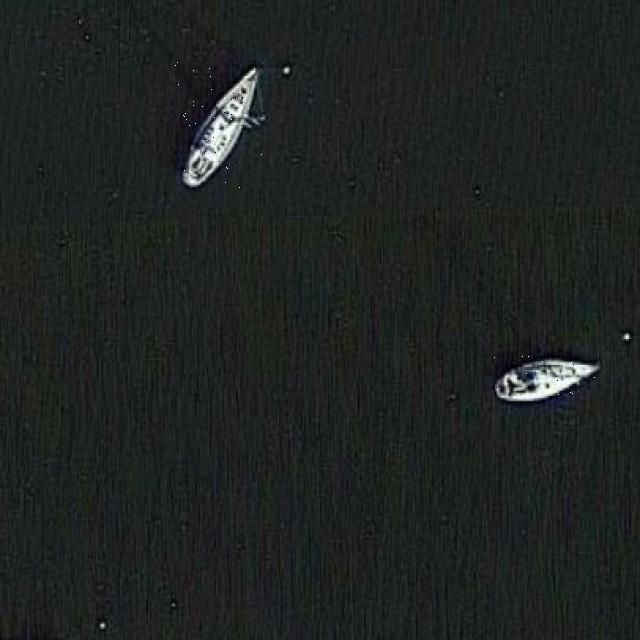boat: (175, 61, 263, 192), (487, 353, 604, 403)
